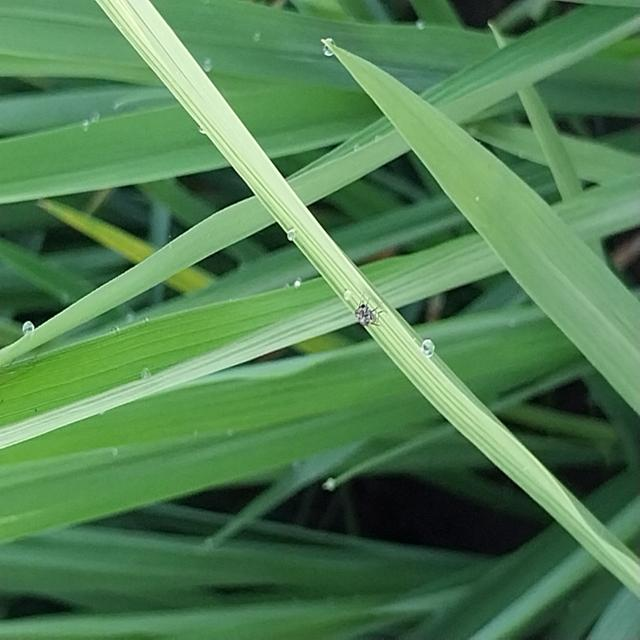healthy: (350, 280, 396, 338)
